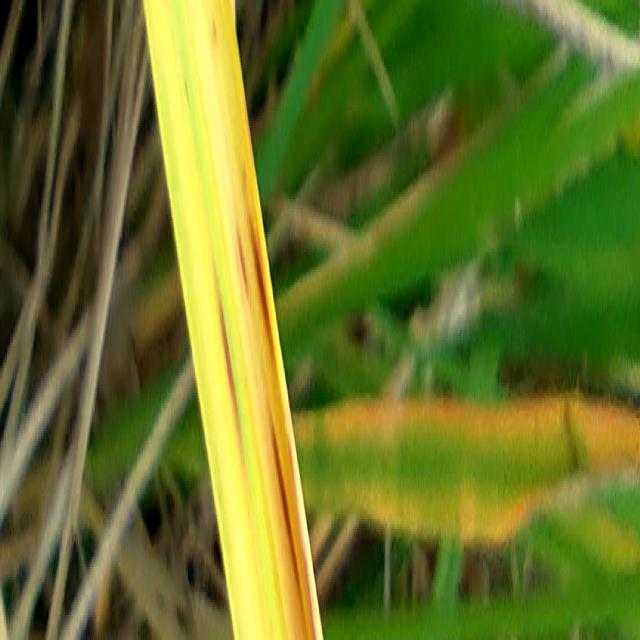NBS: (273, 441, 297, 580), (218, 297, 239, 443), (250, 212, 270, 333), (236, 229, 247, 285)
